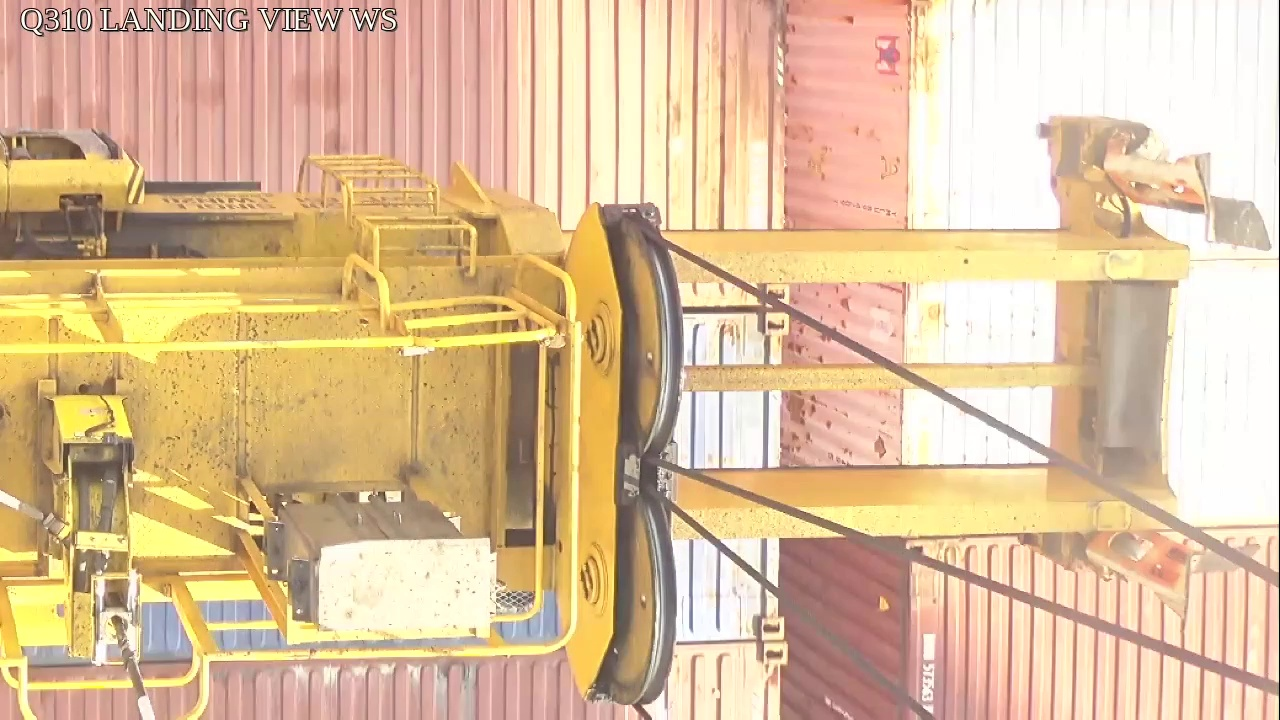right: (557, 204, 679, 708)
